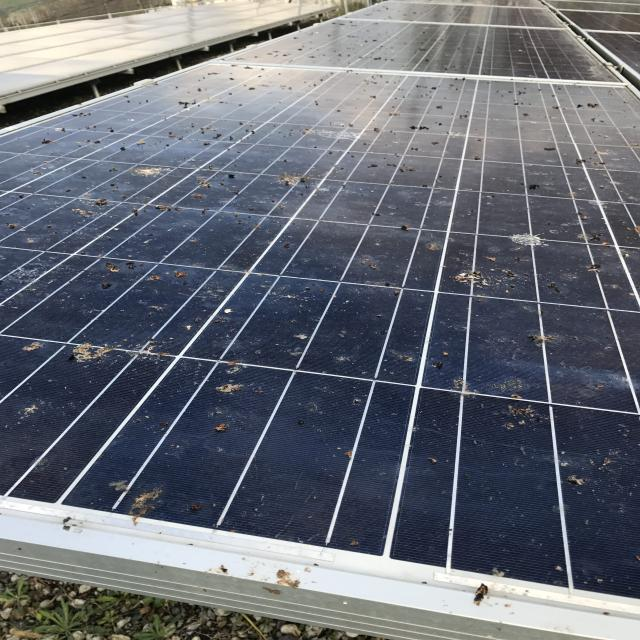bird drop: (36, 319, 133, 392), (197, 359, 263, 441), (112, 478, 180, 523)
